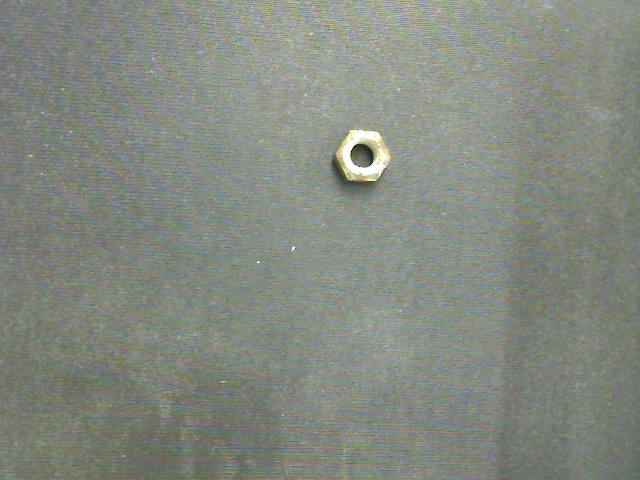Nut: (334, 129, 391, 183)
